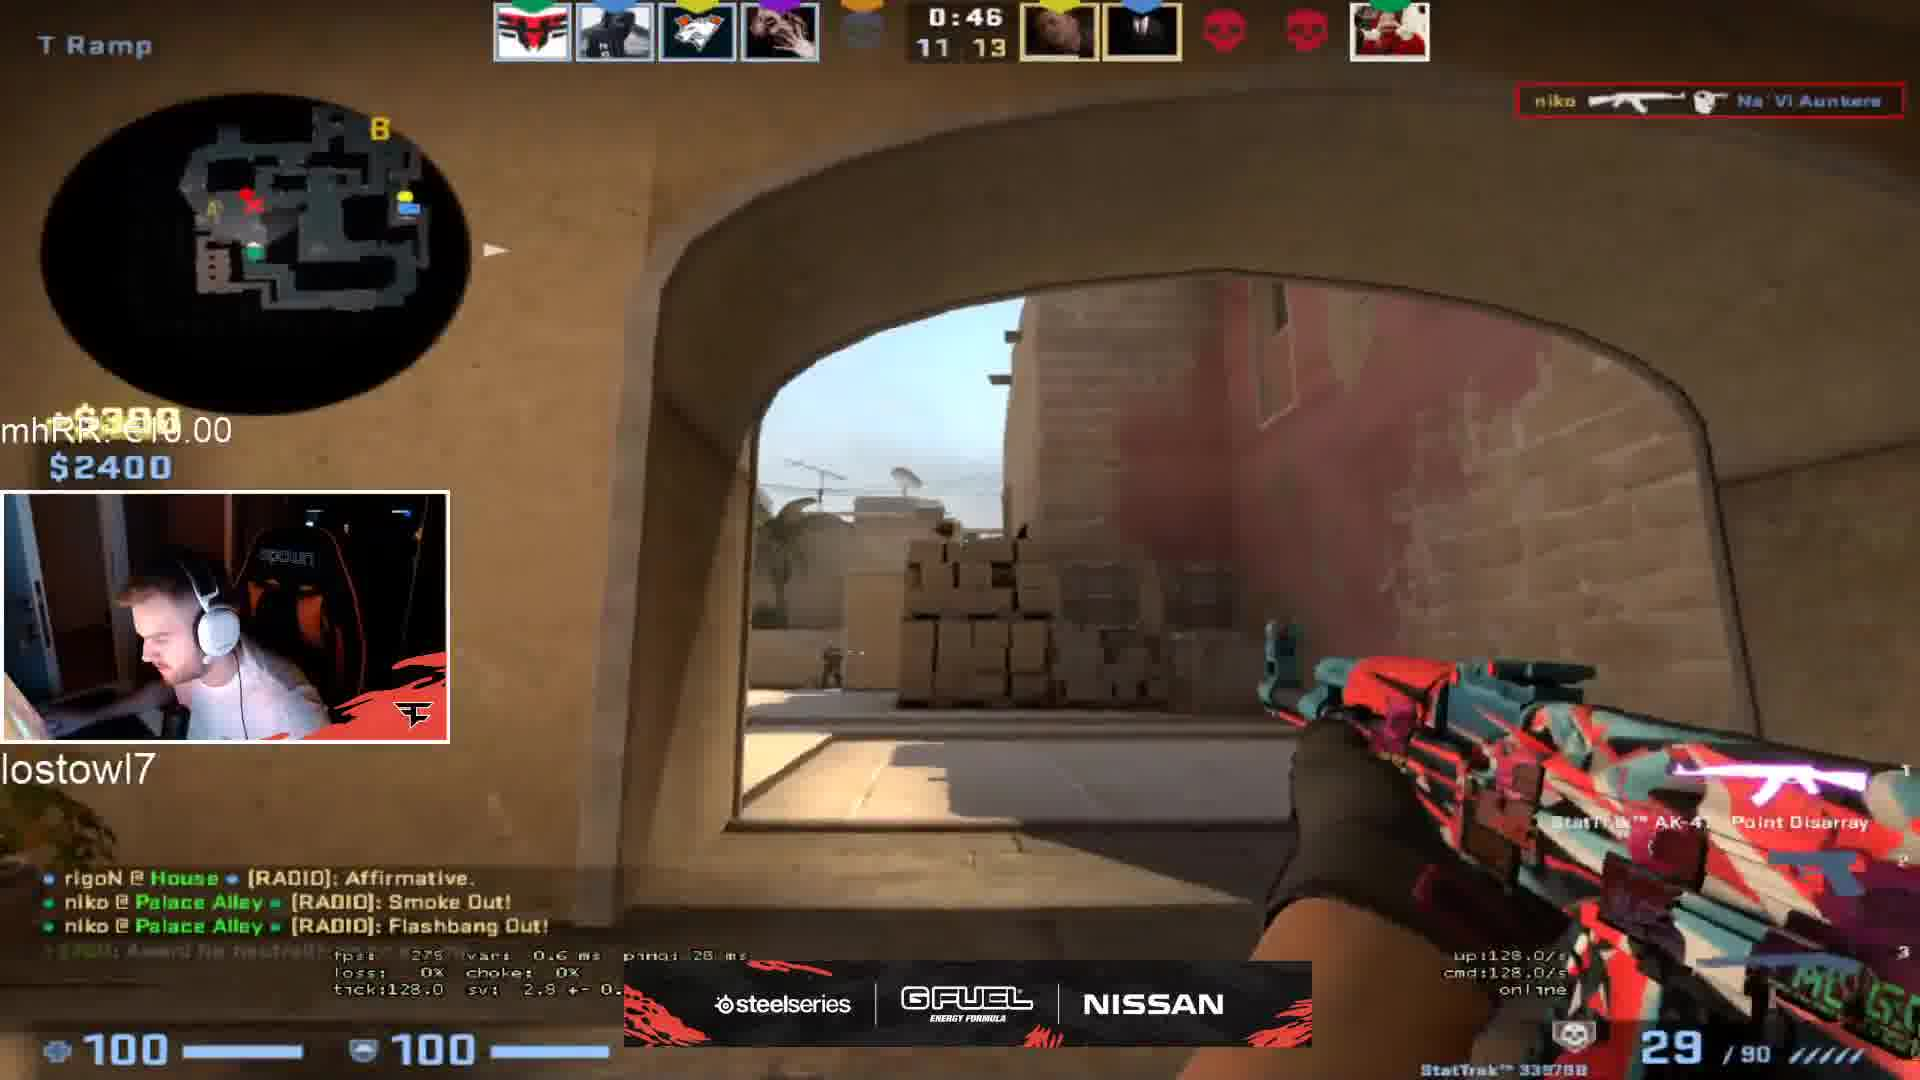enemy: (814, 641, 851, 696)
